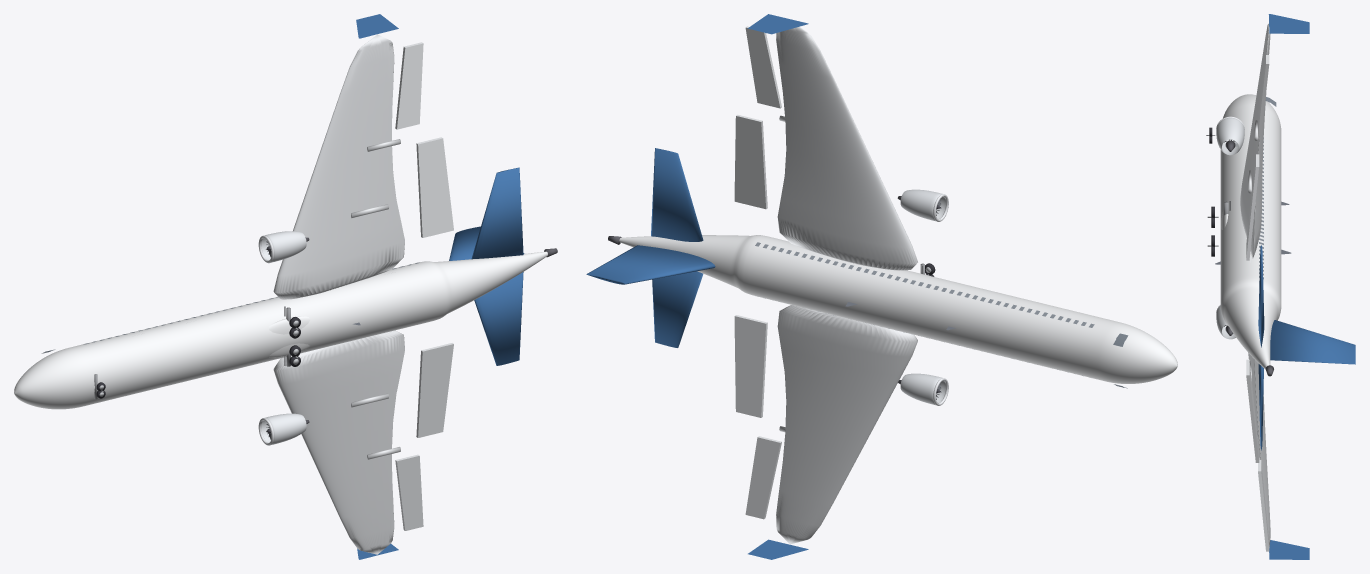
3 views of the same model, side by side, from view 1: azimuth 30°, elevation 25°; view 2: azimuth 150°, elevation 25°; view 3: azimuth 270°, elevation 25° (orthographic).
Visible parts, largest first — view 1: Fuselage, Wing_R, Wing_L, HStab_R, HStab_L, Flap_R, Flap_L, Aileron_R, Aileron_L, Nacelle_1_0, Nacelle_-1_0, Fin (+1 smaller); view 2: Fuselage, Wing_L, Wing_R, HStab_R, Flap_L, Fin, Flap_R, HStab_L, Aileron_L, Aileron_R, Nacelle_-1_0, Nacelle_1_0 (+1 smaller); view 3: Fuselage, Fin, Wing_R, Wing_L, Nacelle_1_0, Sharklet_R, Sharklet_L, Flap_R, Flap_L, HStab_R, Aileron_L, Aileron_R (+2 smaller).
Boxes of the visible parts, x1,y1,x2,y2 form: Fuselage: (14, 251, 547, 409); Wing_R: (273, 34, 404, 299); Wing_L: (273, 330, 404, 554); HStab_R: (471, 167, 523, 259); HStab_L: (474, 272, 523, 365); Flap_R: (416, 137, 453, 237); Flap_L: (416, 343, 453, 437); Aileron_R: (395, 42, 423, 129); Aileron_L: (395, 454, 423, 530); Nacelle_1_0: (261, 231, 306, 262); Nacelle_-1_0: (261, 413, 306, 444); Fin: (449, 226, 524, 260); Fuselage: (619, 235, 1177, 383); Wing_L: (776, 305, 917, 544); Wing_R: (776, 26, 917, 270); HStab_R: (651, 148, 703, 241); Flap_L: (734, 315, 767, 417); Fin: (586, 245, 715, 284); Flap_R: (734, 114, 767, 209); HStab_L: (652, 271, 703, 347); Aileron_L: (745, 436, 781, 519); Aileron_R: (745, 26, 781, 108); Nacelle_-1_0: (900, 373, 945, 405); Nacelle_1_0: (900, 189, 945, 221); Fuselage: (1220, 94, 1281, 369); Fin: (1270, 320, 1355, 364); Wing_R: (1240, 23, 1270, 258); Wing_L: (1248, 352, 1270, 547); Nacelle_1_0: (1216, 117, 1244, 155); Sharklet_R: (1268, 14, 1309, 33); Sharklet_L: (1269, 540, 1309, 559); Flap_R: (1246, 154, 1259, 260); Flap_L: (1246, 359, 1259, 462); HStab_R: (1258, 245, 1264, 347); Aileron_L: (1258, 460, 1269, 551); Aileron_R: (1258, 55, 1269, 136).
Size of the model in its own units: 39.75 by 35.79 by 9.23.
